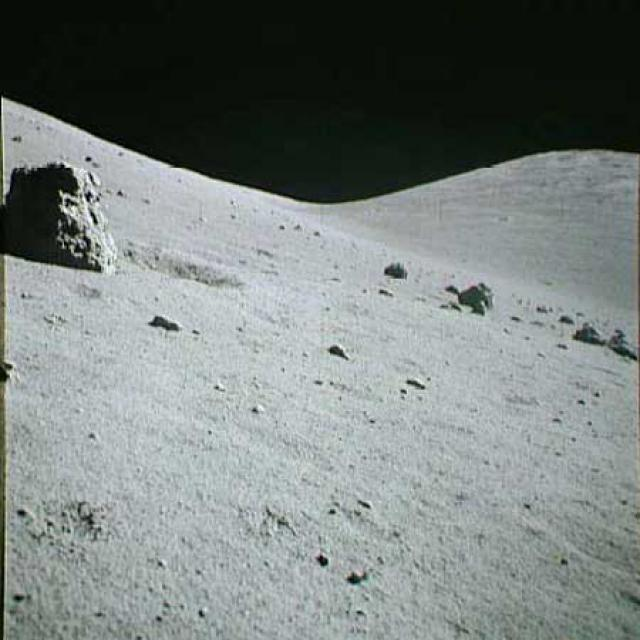crater: (519, 497, 639, 578), (131, 242, 242, 293)
rock: (3, 153, 121, 277), (448, 271, 502, 317), (607, 320, 639, 361), (378, 252, 412, 282), (576, 318, 606, 348), (148, 309, 182, 335), (321, 339, 352, 362), (403, 371, 431, 393), (557, 308, 578, 326)
